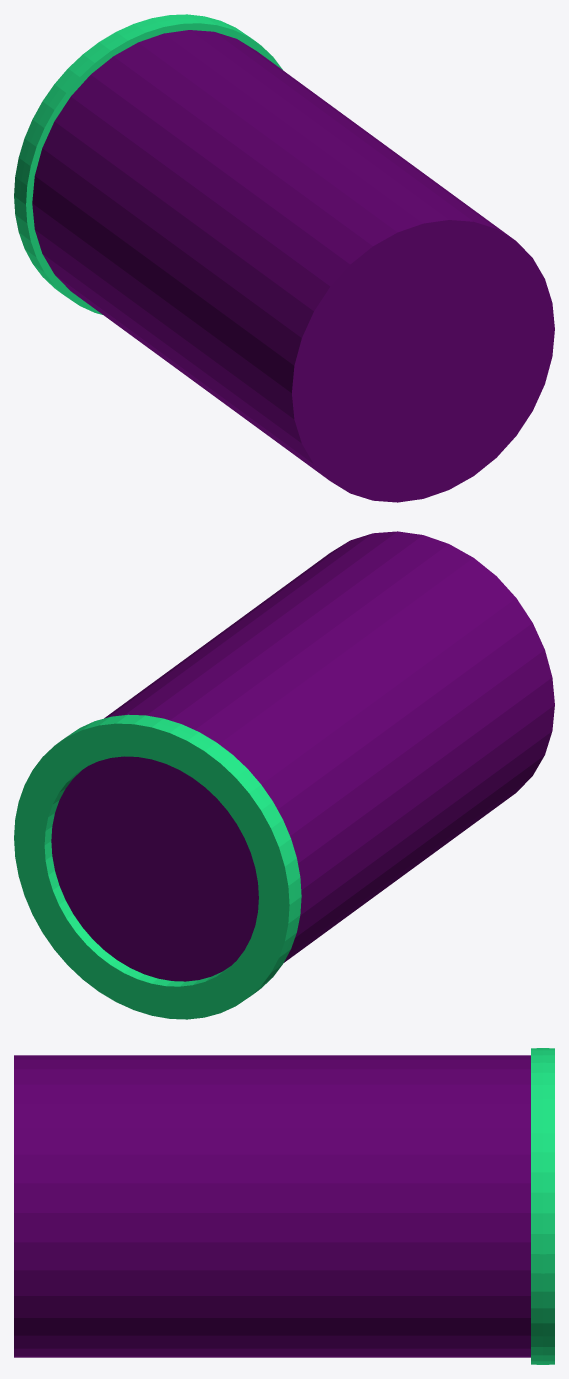
The model's file is tube end.fbx.
3 views of the same model, one above another, from view 1: azimuth 30°, elevation 25°; view 2: azimuth 150°, elevation 25°; view 3: azimuth 270°, elevation 25° (orthographic).
Parts seen in each view (by area): view 1: Cylinder.002, Cylinder.001, Torus.001; view 2: Cylinder.001, Cylinder.002, Torus.001; view 3: Cylinder.002, Cylinder.001, Torus.001.
Boxes of the visible parts, x1=… form: Cylinder.002: x1=140, y1=109, x2=554, y2=502; Cylinder.001: x1=32, y1=30, x2=363, y2=396; Torus.001: x1=14, y1=14, x2=282, y2=314; Cylinder.001: x1=51, y1=642, x2=440, y2=981; Cylinder.002: x1=180, y1=531, x2=554, y2=874; Torus.001: x1=14, y1=714, x2=301, y2=1019; Cylinder.002: x1=14, y1=1055, x2=315, y2=1357; Cylinder.001: x1=241, y1=1055, x2=530, y2=1357; Torus.001: x1=531, y1=1048, x2=554, y2=1364.
Bounding box in the file's own units: 105 × 105 × 179.
